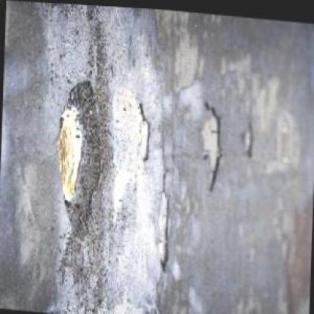Hueco: (54, 77, 108, 237), (199, 98, 224, 190), (159, 189, 174, 269), (135, 101, 151, 159), (244, 119, 255, 154)
